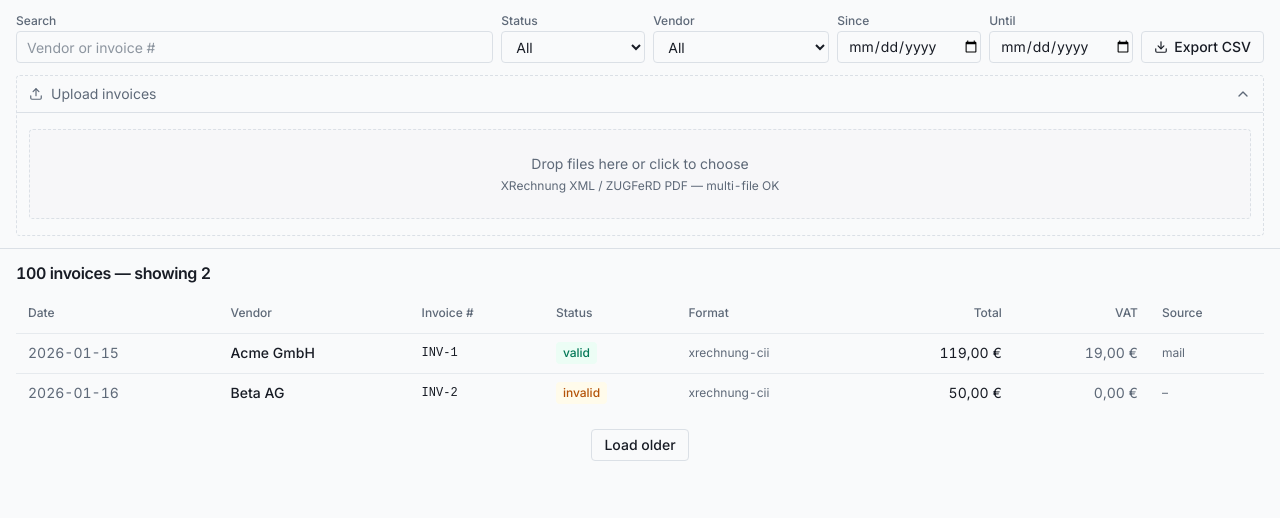
Test: InboxPage › Load older increments offset
The image size is (1280, 518).
Expected: the text "INV-1" is shown, [410, 333, 544, 373]
Click the button "Load older" at (640, 445), box [591, 429, 689, 461]
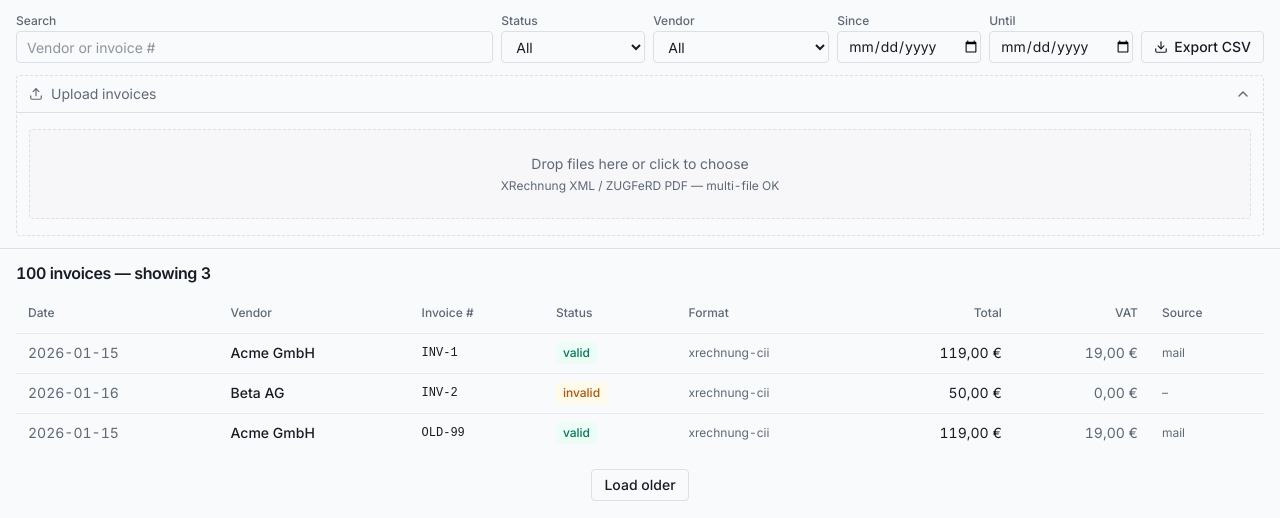
Now the text "OLD-99" is shown, box [410, 413, 544, 453]
